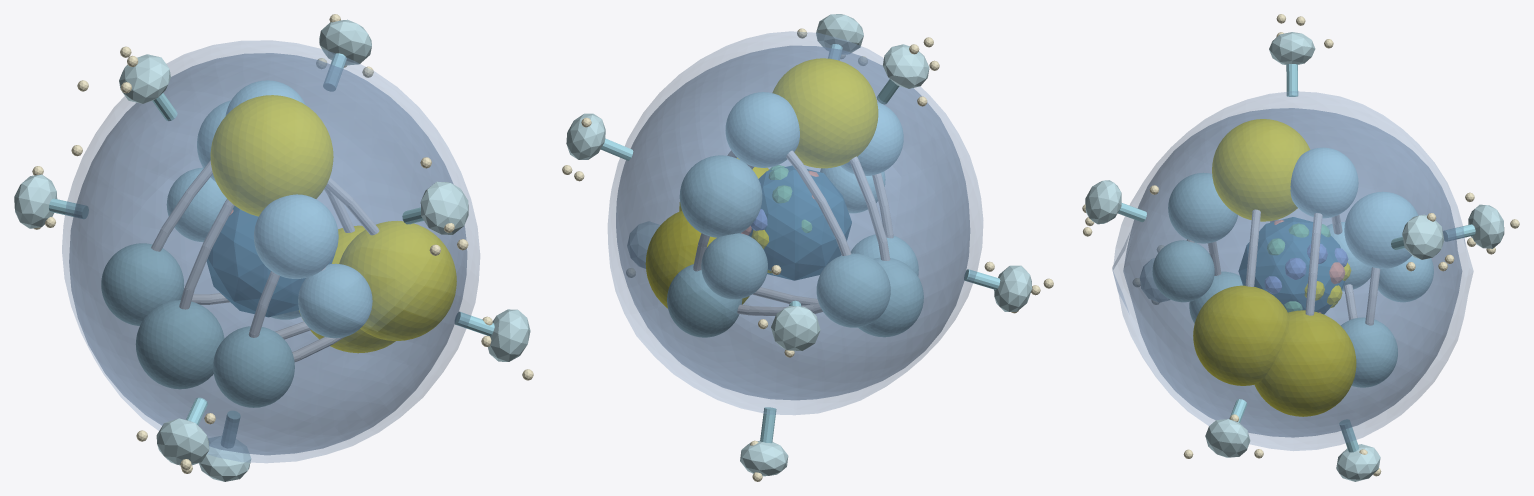
File: mutante_virus_ficticio_b_8280297.glb
The picture shows the model from 3 angles, left to right: view 1: azimuth 30°, elevation 25°; view 2: azimuth 150°, elevation 25°; view 3: azimuth 270°, elevation 25°; orthographic projection. The views are drawn at different scales.
Parts seen in each view (by area): view 1: geometry_0, geometry_1, geometry_136, geometry_135, geometry_137, geometry_133, geometry_2, geometry_134, geometry_140, geometry_132, geometry_143, geometry_228 (+9 smaller); view 2: geometry_0, geometry_1, geometry_136, geometry_2, geometry_142, geometry_139, geometry_140, geometry_143, geometry_141, geometry_138, geometry_137, geometry_133 (+9 smaller); view 3: geometry_0, geometry_1, geometry_135, geometry_138, geometry_136, geometry_2, geometry_142, geometry_139, geometry_133, geometry_132, geometry_141, geometry_143 (+9 smaller).
Part boxes in pixels (x1,y1,x2,y2): geometry_0: [62, 40, 479, 462]; geometry_1: [69, 53, 467, 455]; geometry_136: [210, 95, 333, 216]; geometry_135: [339, 221, 456, 340]; geometry_137: [136, 300, 224, 389]; geometry_133: [254, 194, 338, 278]; geometry_2: [206, 206, 334, 317]; geometry_134: [213, 326, 294, 407]; geometry_140: [101, 243, 183, 325]; geometry_132: [298, 263, 372, 338]; geometry_143: [166, 167, 226, 241]; geometry_228: [319, 19, 371, 91]; geometry_0: [608, 31, 983, 414]; geometry_1: [616, 45, 970, 400]; geometry_136: [772, 58, 878, 168]; geometry_2: [748, 165, 851, 280]; geometry_142: [679, 155, 762, 237]; geometry_139: [725, 92, 799, 167]; geometry_140: [816, 253, 890, 327]; geometry_143: [701, 233, 767, 299]; geometry_141: [667, 264, 742, 337]; geometry_138: [645, 211, 749, 308]; geometry_137: [858, 257, 923, 337]; geometry_133: [840, 102, 903, 175]; geometry_0: [1112, 91, 1473, 450]; geometry_1: [1123, 108, 1462, 437]; geometry_135: [1193, 285, 1289, 385]; geometry_138: [1255, 310, 1356, 416]; geometry_136: [1212, 119, 1309, 221]; geometry_2: [1238, 217, 1344, 314]; geometry_142: [1344, 191, 1418, 268]; geometry_139: [1290, 147, 1358, 218]; geometry_133: [1168, 172, 1237, 243]; geometry_132: [1152, 240, 1214, 302]; geometry_141: [1341, 317, 1397, 387]; geometry_143: [1378, 255, 1433, 302].
Bounding box in the file's own units: 11.29 × 12.25 × 11.89.
